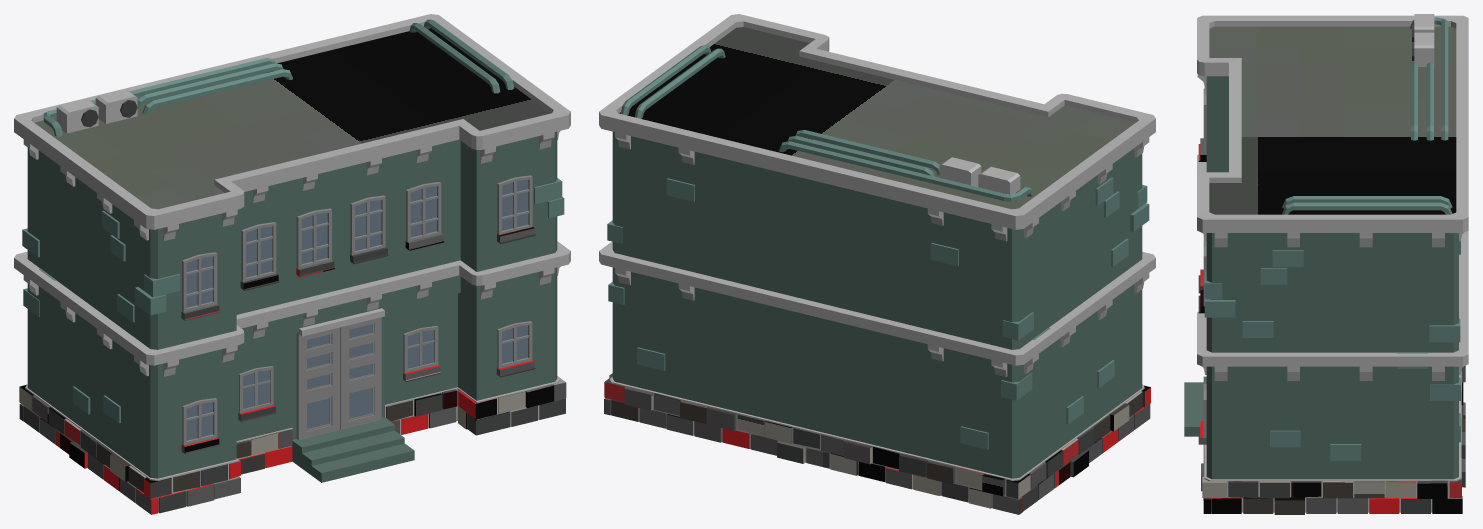
Rendered from quaternius-ultimate-textured-building-2-story-wide-mat.glb.
3 views of the same model, side by side, from view 1: azimuth 30°, elevation 25°; view 2: azimuth 150°, elevation 25°; view 3: azimuth 270°, elevation 25° (orthographic).
Parts seen in each view (by area): view 1: 2Story_Wide_Mat; view 2: 2Story_Wide_Mat; view 3: 2Story_Wide_Mat.
Boxes of the visible parts, left/top/right/bottom form: 2Story_Wide_Mat: left=14, top=14, right=570, bottom=514; 2Story_Wide_Mat: left=599, top=14, right=1155, bottom=514; 2Story_Wide_Mat: left=1184, top=14, right=1468, bottom=514.
Bounding box in the file's own units: 3.83 × 2.75 × 2.26.
Materials: 2 (2 with a texture image).
